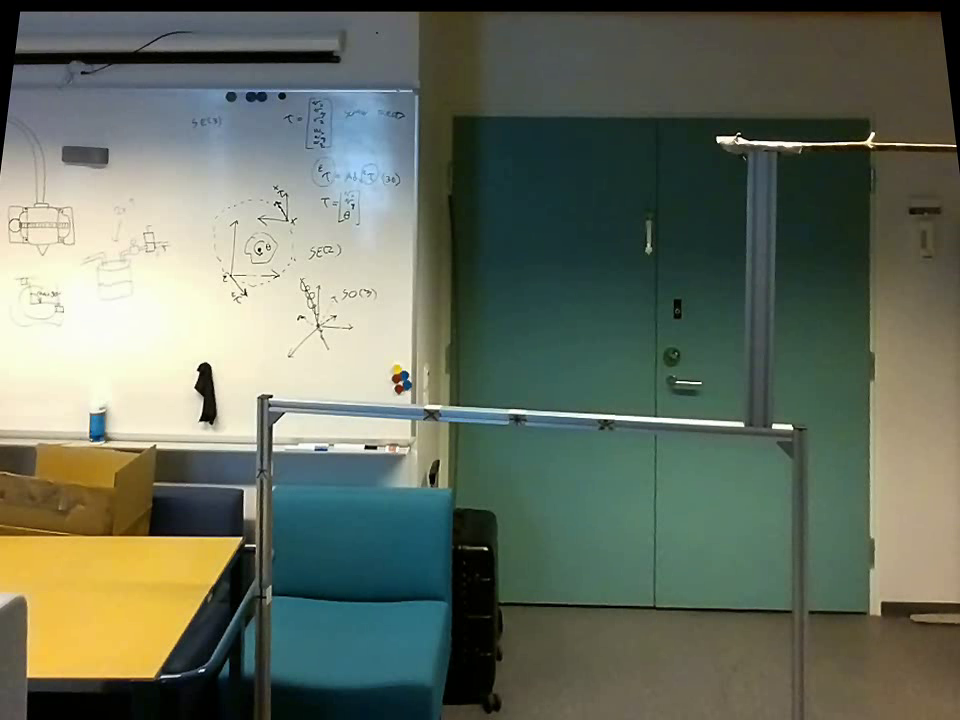aluminum_frame: (265, 388, 792, 445), (1, 424, 420, 463), (10, 75, 427, 101), (737, 151, 774, 432), (404, 73, 422, 443), (787, 420, 809, 718), (251, 390, 271, 715)
branch: (806, 125, 956, 160)
